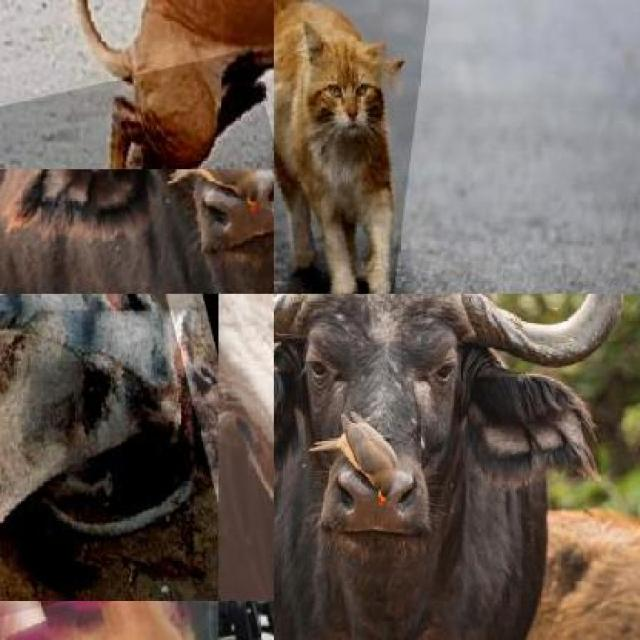buffalo: (274, 294, 620, 638), (0, 169, 274, 294)
cat: (274, 0, 441, 294)
cow: (0, 294, 218, 600), (218, 294, 274, 600)
dog: (0, 0, 274, 169)
injured: (0, 294, 218, 600), (0, 48, 274, 169)
